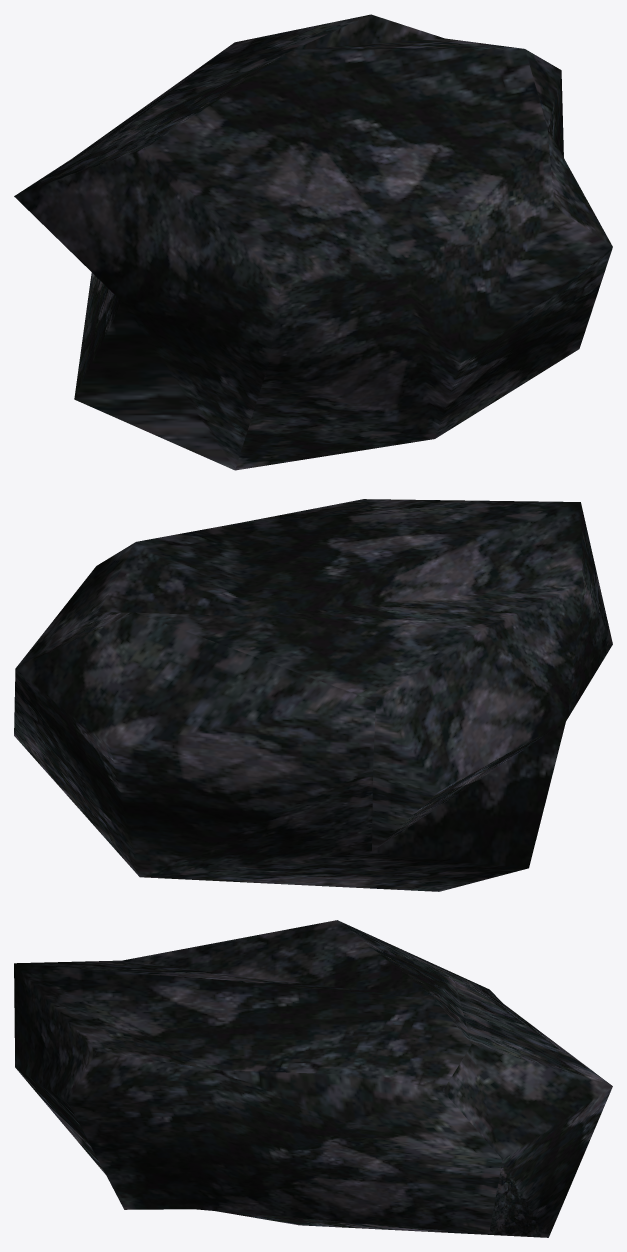
The model's file is asteroid_obsidian_small_s01_l3.fbx.
3 views of the same model, one above another, from view 1: azimuth 30°, elevation 25°; view 2: azimuth 150°, elevation 25°; view 3: azimuth 270°, elevation 25° (orthographic). The views are drawn at different scales.
Parts seen in each view (by area): view 1: mesh_node; view 2: mesh_node; view 3: mesh_node.
Part boxes in pixels (left/top/right/bottom): mesh_node: left=14, top=14, right=612, bottom=470; mesh_node: left=14, top=499, right=612, bottom=891; mesh_node: left=14, top=920, right=612, bottom=1237.
Bounding box in the file's own units: 25.99 × 16.67 × 31.9.
1 material, 1 textured.
